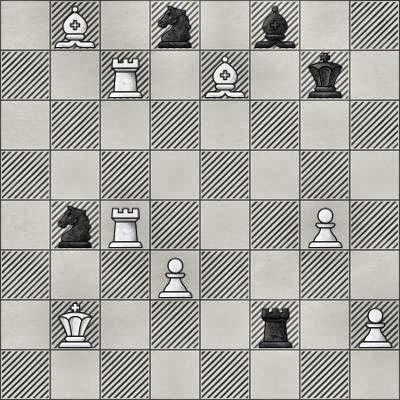black-bishop: (250, 0, 300, 50)
black-king: (300, 50, 350, 100)
black-knight: (150, 0, 200, 50), (50, 200, 100, 250)
black-rook: (250, 300, 300, 350)
white-bishop: (50, 0, 100, 50), (200, 50, 250, 100)
white-king: (50, 300, 100, 350)
white-pawn: (300, 200, 350, 250), (150, 250, 200, 300), (350, 300, 400, 350)
white-rook: (100, 50, 150, 100), (100, 200, 150, 250)
